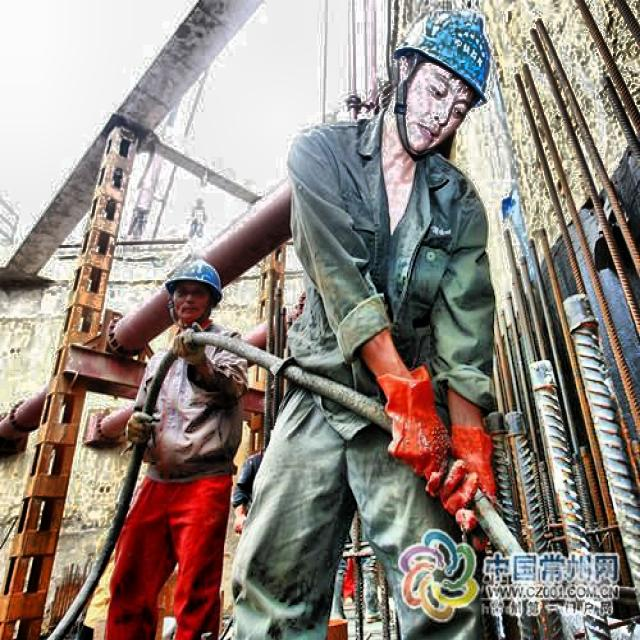helmet: (382, 3, 501, 164), (156, 248, 229, 330)
